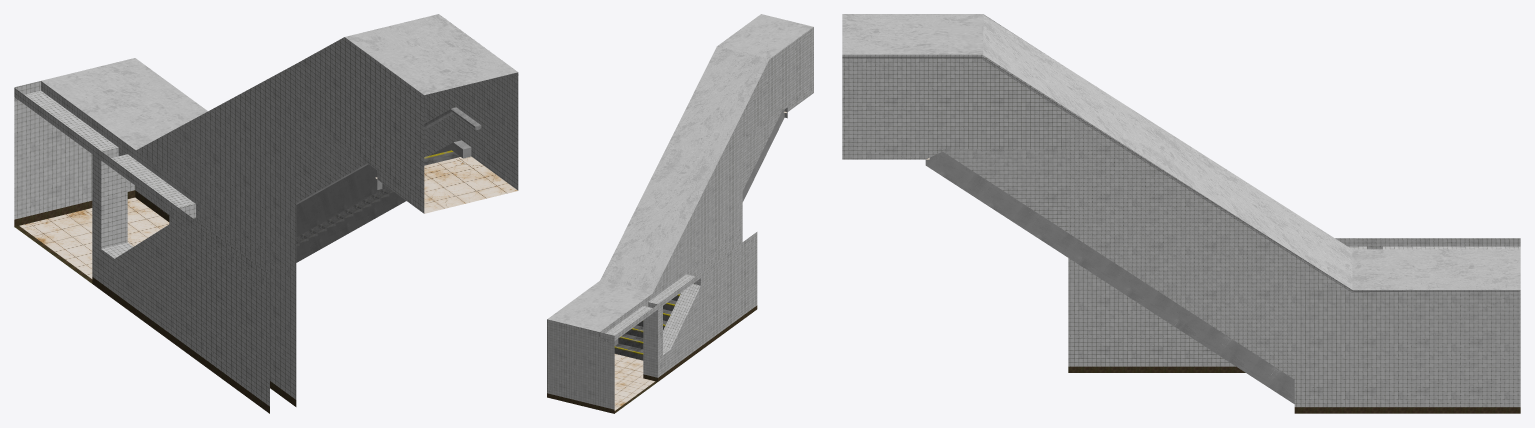
Rendered from Ped_Tunnel_Stairs.fbx.
The picture shows the model from 3 angles, left to right: view 1: azimuth 30°, elevation 25°; view 2: azimuth 150°, elevation 25°; view 3: azimuth 270°, elevation 25°; orthographic projection. The views are drawn at different scales.
Visible parts, largest first — view 1: Ped_Tunnel_Stairs; view 2: Ped_Tunnel_Stairs; view 3: Ped_Tunnel_Stairs.
Part boxes in pixels (<box>): Ped_Tunnel_Stairs: <box>14,14,518,413</box>; Ped_Tunnel_Stairs: <box>547,14,813,413</box>; Ped_Tunnel_Stairs: <box>842,14,1520,413</box>.
Bounding box in the file's own units: 273 × 877 × 1500.
